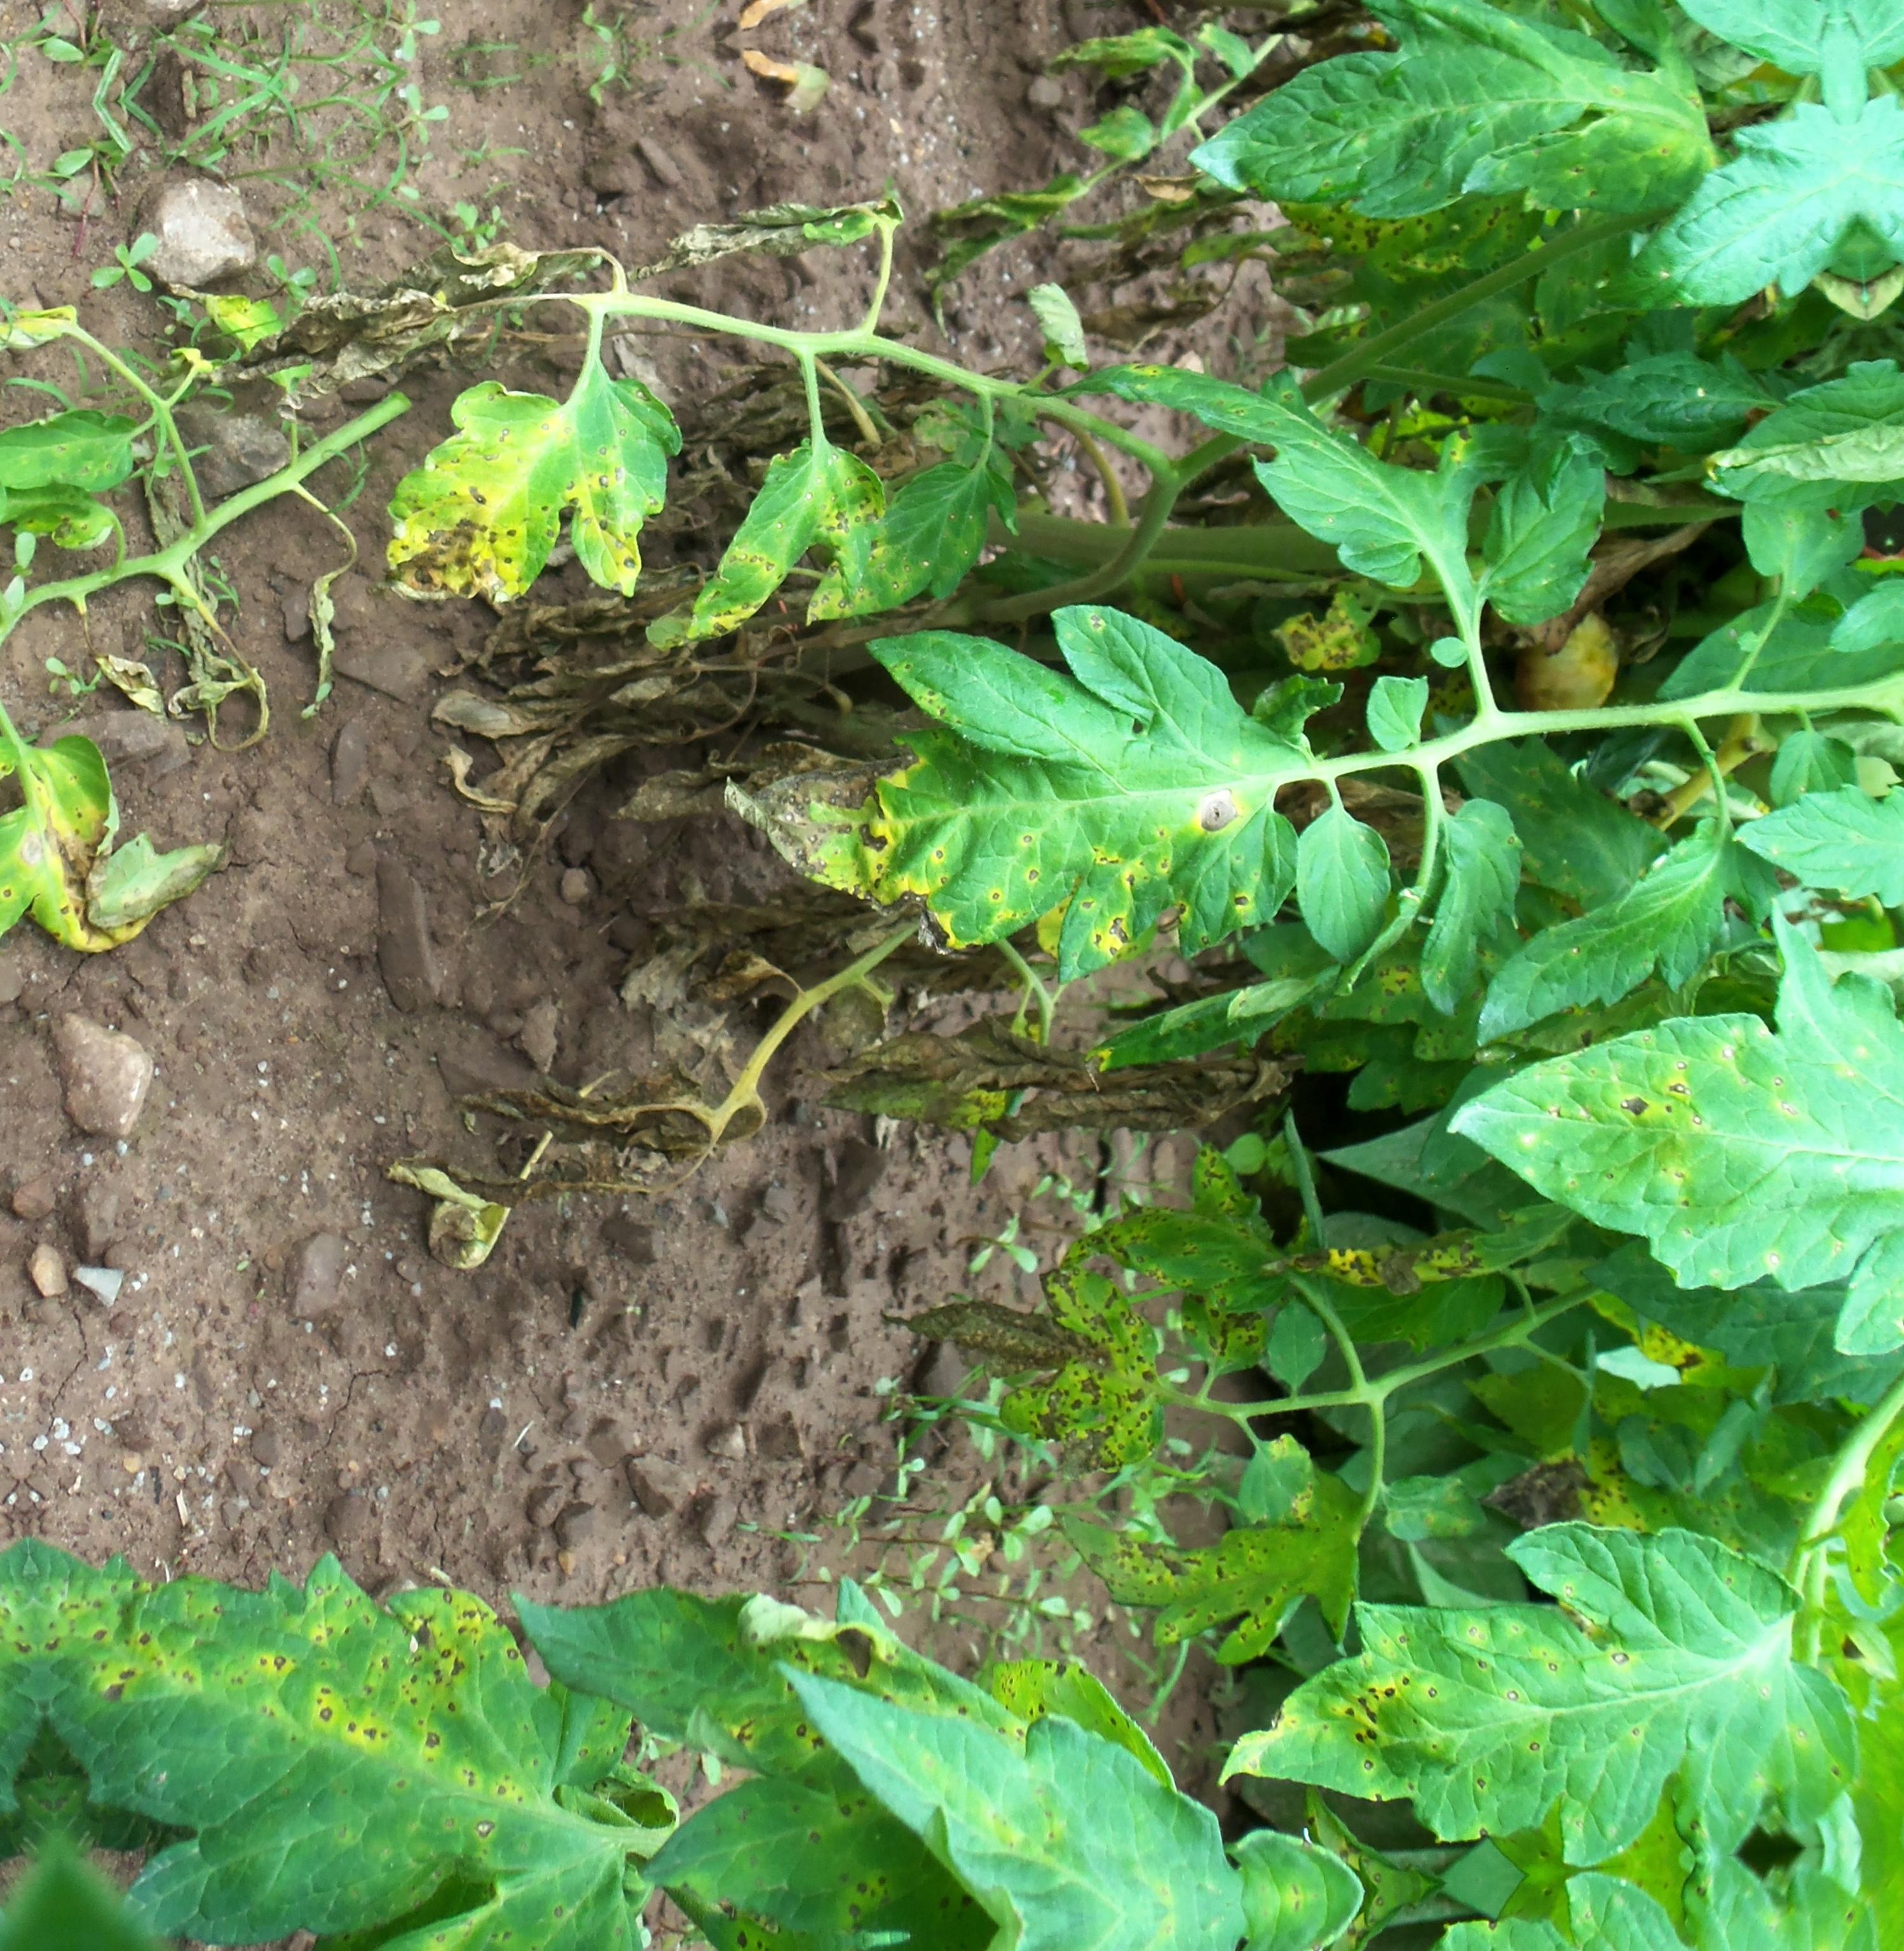Tomato Septoria leaf spot: (26, 1472, 673, 1951), (1184, 1475, 1829, 1904), (731, 588, 1348, 1018), (1400, 945, 1904, 1393), (354, 331, 708, 635), (673, 436, 874, 643)
